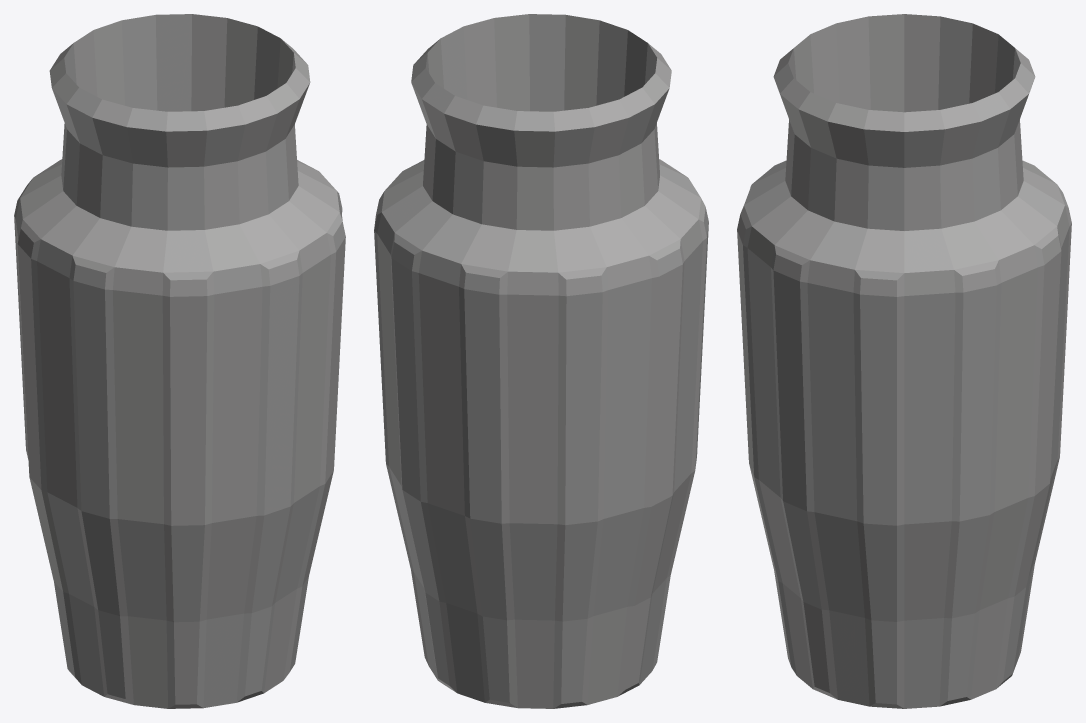
File: FurnAcc_Vase.fbx
3 renders of one model, left to right at view 1: azimuth 30°, elevation 25°; view 2: azimuth 150°, elevation 25°; view 3: azimuth 270°, elevation 25°, orthographic.
Visible parts, largest first — view 1: FurnAcc_Vase; view 2: FurnAcc_Vase; view 3: FurnAcc_Vase.
Part boxes in pixels (bbox=[...]): FurnAcc_Vase: bbox=[14, 14, 345, 708]; FurnAcc_Vase: bbox=[374, 14, 708, 708]; FurnAcc_Vase: bbox=[737, 14, 1071, 708].
Bounding box in the file's own units: 23.4 × 46.1 × 23.4.
